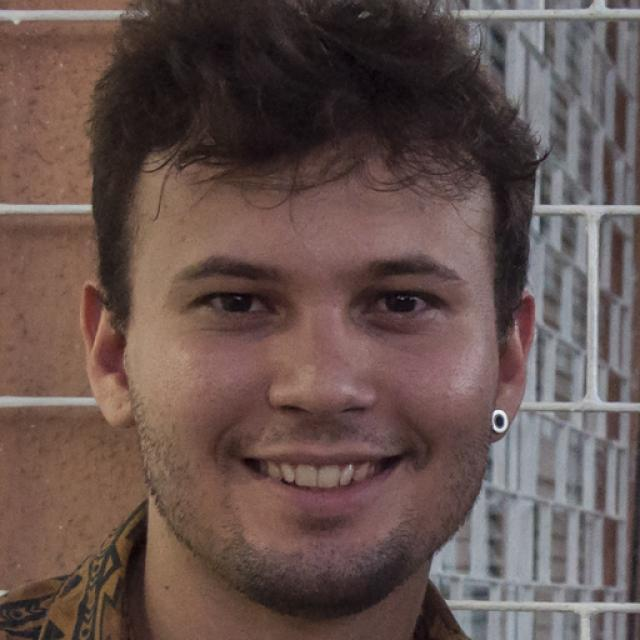happy: (128, 138, 498, 616)
